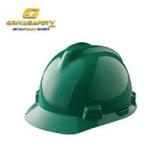Helmet: (24, 42, 137, 135)
